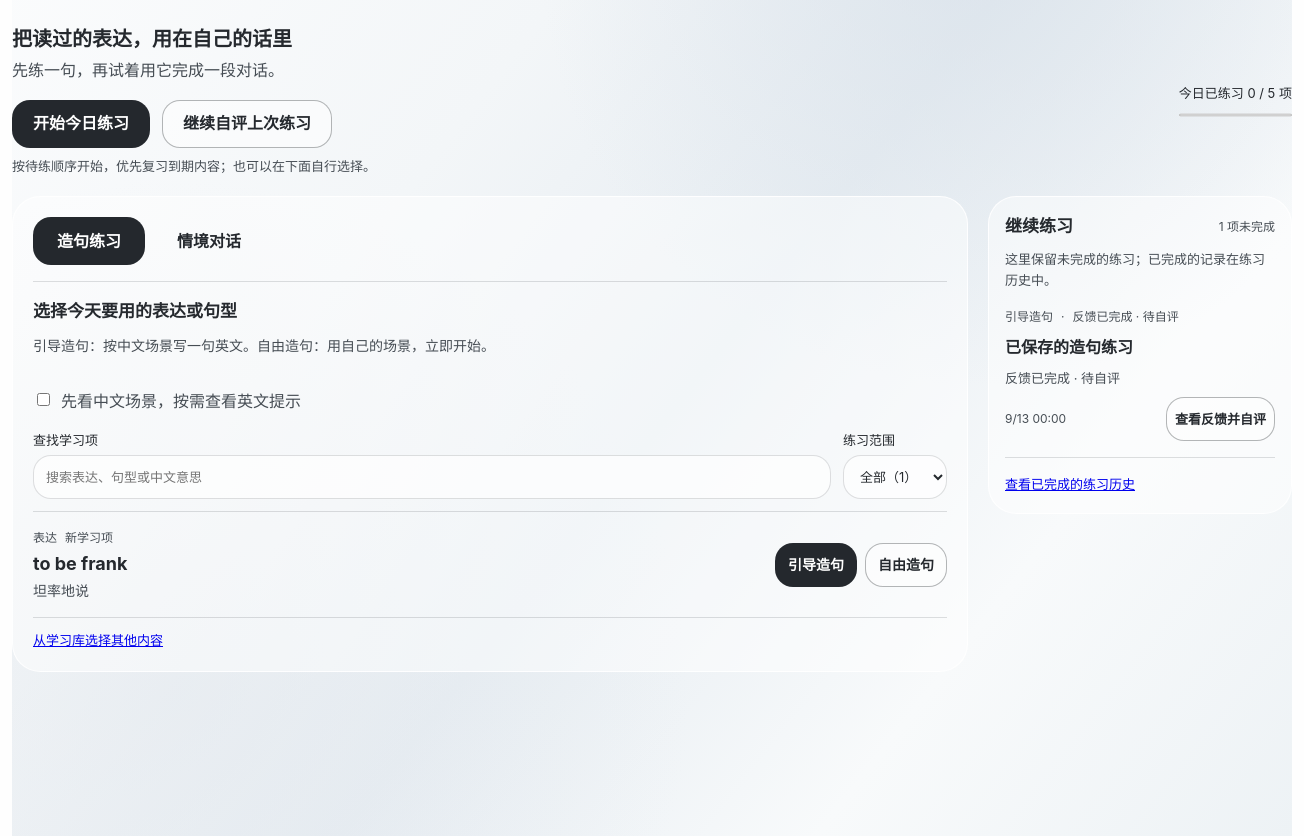
Test: does not restore deleted target information from a stale queue or library detail
Click the button "查看反馈并自评". click: (1220, 419)
box: [1166, 397, 1275, 441]
(page scrolled)
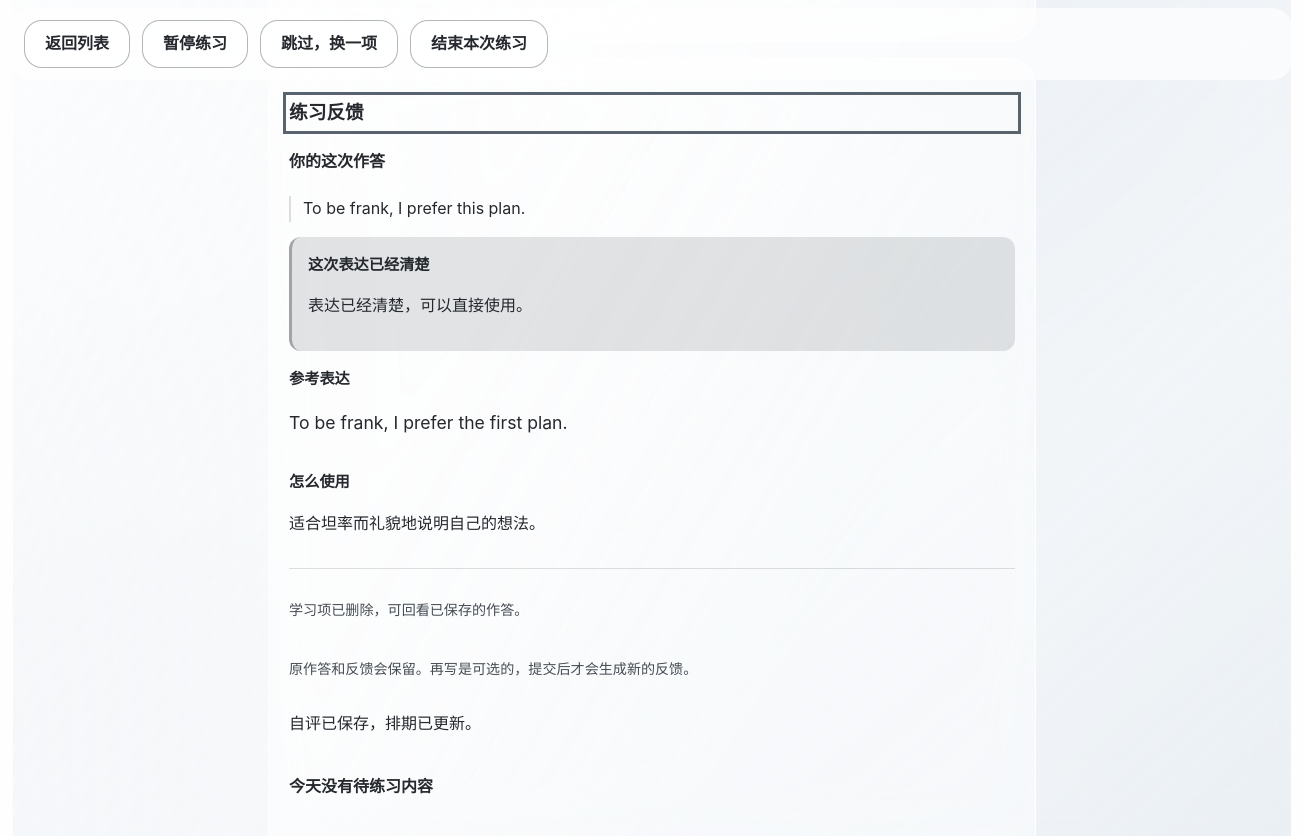
Now the element that starts with "按需提示造句" shows "To be frank, I prefer this plan.", box [303, 197, 525, 217]
Now the element that starts with "按需提示造句" shows "表达已经清楚", box [308, 295, 532, 315]
